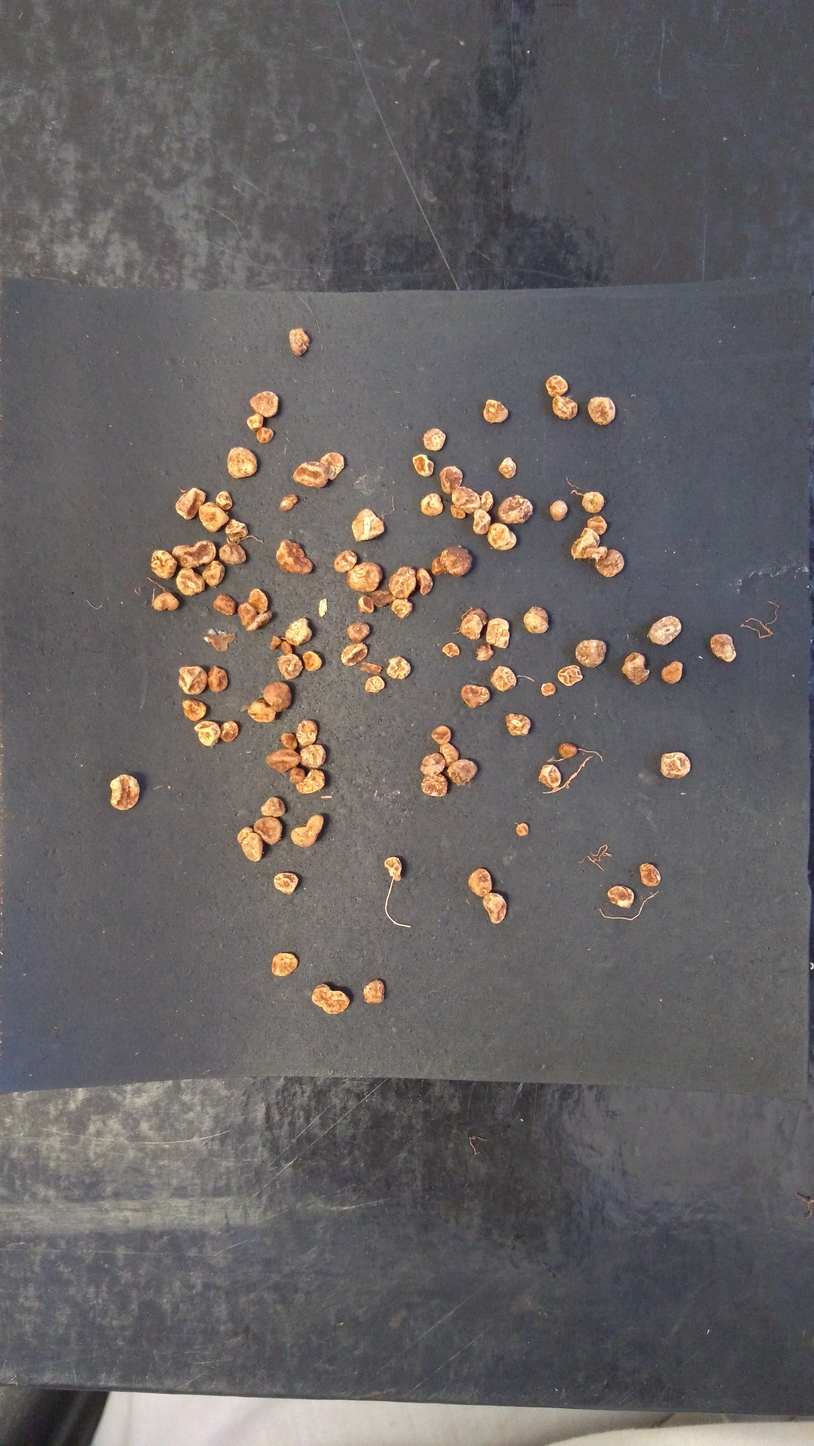nodule: (104, 771, 147, 817), (275, 537, 316, 582), (307, 980, 356, 1017), (437, 543, 481, 583), (346, 506, 389, 546), (169, 536, 219, 569), (589, 545, 629, 585), (658, 743, 692, 789), (568, 524, 610, 561), (343, 559, 385, 595), (289, 813, 328, 850), (647, 613, 685, 650), (497, 491, 537, 526), (573, 632, 608, 672), (290, 457, 331, 491), (246, 386, 284, 421), (236, 600, 277, 632), (707, 629, 741, 667), (386, 563, 419, 602), (485, 614, 516, 655), (484, 519, 520, 554), (284, 324, 318, 361), (177, 661, 210, 698), (172, 485, 205, 522), (619, 650, 651, 688), (585, 396, 625, 426), (226, 446, 260, 481), (260, 680, 295, 714), (445, 754, 480, 788), (262, 747, 302, 776), (196, 500, 229, 535), (174, 565, 207, 598), (448, 484, 482, 516), (547, 392, 581, 424), (478, 396, 513, 427), (659, 655, 688, 692), (252, 815, 284, 848), (319, 448, 346, 487), (522, 602, 552, 637), (479, 891, 509, 926), (149, 547, 178, 583), (465, 864, 494, 900), (284, 616, 317, 647), (488, 663, 520, 694), (534, 761, 565, 793), (269, 949, 302, 979), (436, 464, 466, 497), (418, 770, 452, 799), (245, 697, 281, 724), (293, 769, 329, 796), (201, 555, 229, 589), (360, 975, 390, 1006), (460, 682, 491, 712), (578, 488, 609, 518), (603, 883, 635, 912), (296, 743, 329, 771), (504, 710, 534, 740), (276, 652, 306, 681), (338, 640, 369, 668), (458, 611, 485, 643), (218, 540, 248, 568), (203, 664, 231, 694), (210, 592, 238, 621), (385, 655, 415, 682), (419, 750, 449, 777), (151, 592, 186, 615), (295, 716, 320, 748), (239, 831, 264, 863), (342, 621, 374, 646), (193, 718, 220, 747), (637, 861, 664, 890), (555, 662, 585, 688), (332, 547, 359, 575), (436, 741, 464, 768), (389, 592, 415, 621), (420, 424, 446, 453), (271, 871, 301, 896), (381, 854, 406, 884), (179, 698, 209, 723), (471, 504, 493, 538), (246, 584, 270, 615), (259, 795, 288, 820), (496, 455, 520, 485), (542, 372, 569, 398), (410, 451, 435, 479), (222, 519, 252, 542), (419, 491, 444, 517), (415, 565, 434, 598), (218, 717, 242, 743), (429, 722, 454, 746), (584, 514, 610, 537), (475, 642, 498, 667), (547, 496, 569, 522), (243, 410, 268, 431), (302, 650, 325, 672), (557, 739, 581, 760), (437, 641, 462, 661), (356, 594, 377, 617), (364, 674, 385, 697), (477, 489, 497, 513), (428, 553, 446, 578), (254, 426, 277, 445), (277, 493, 300, 511), (235, 825, 256, 844), (288, 766, 306, 788), (214, 491, 234, 510), (278, 731, 298, 750), (539, 680, 558, 699), (447, 502, 467, 520), (279, 639, 295, 657), (514, 820, 530, 838), (268, 634, 282, 651)
